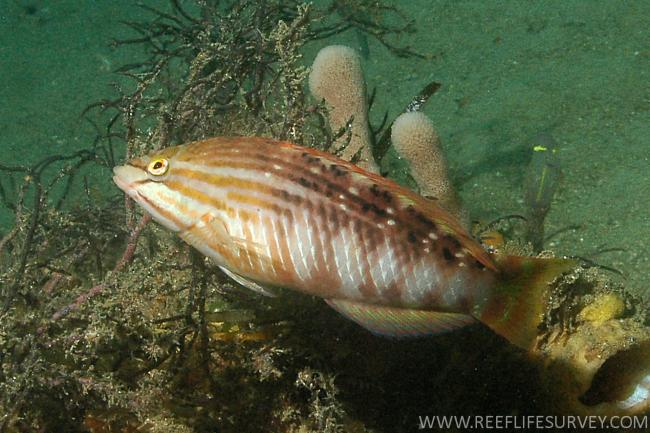fish: (111, 135, 578, 353)
